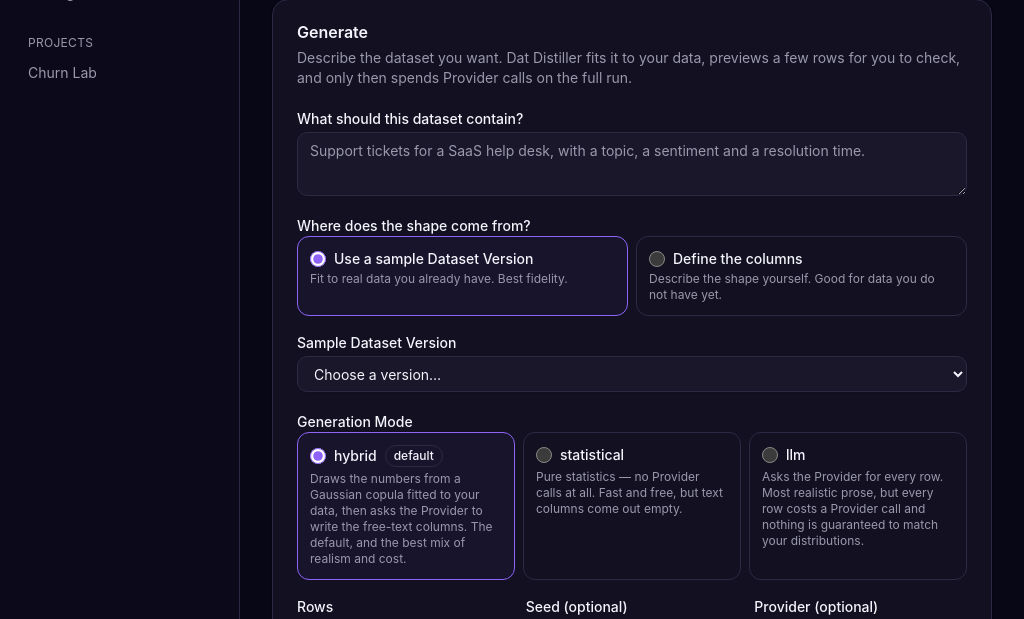
Test: Generate step — the preview gate › surfaces a preview failure without unlocking the run
Type "support tickets" into the text box labelled "What should this dataset contain?" at point(632, 164), box [297,132,967,196]
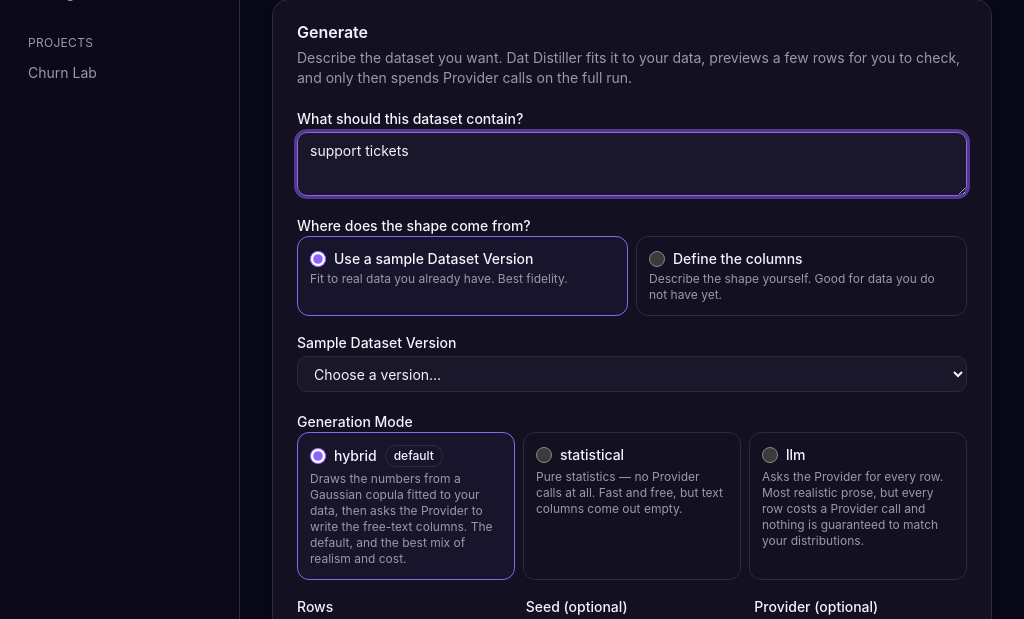
Select "v1 · 40 rows · uploaded" in the dropdown labelled "Sample Dataset Version" at point(632, 374), box [297,356,967,392]
(page scrolled)
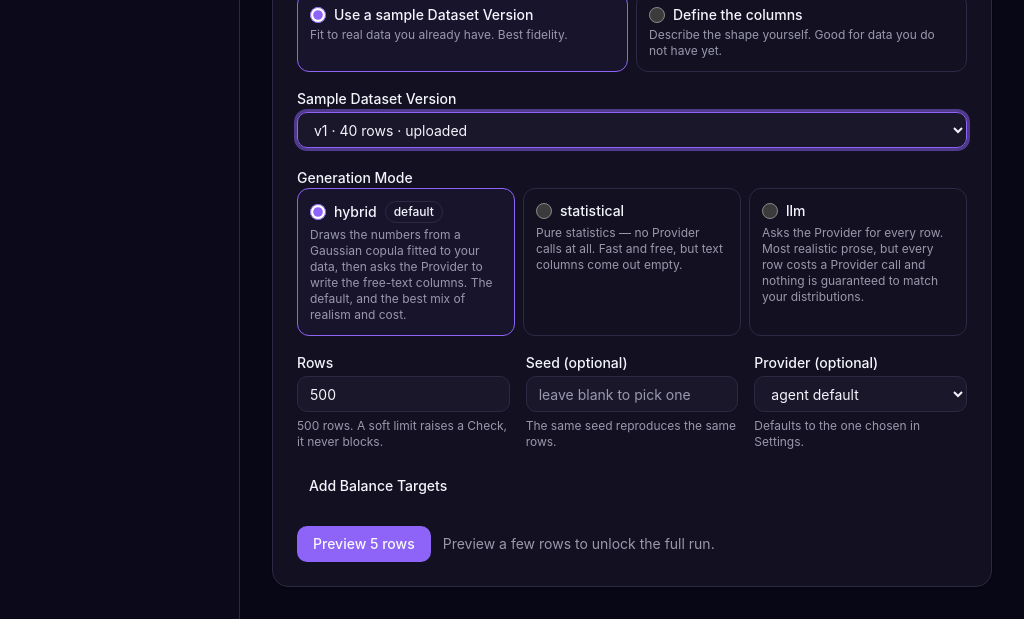
Click the button "Preview 5 rows" at point(364, 544), box [297,526,431,562]
(page scrolled)
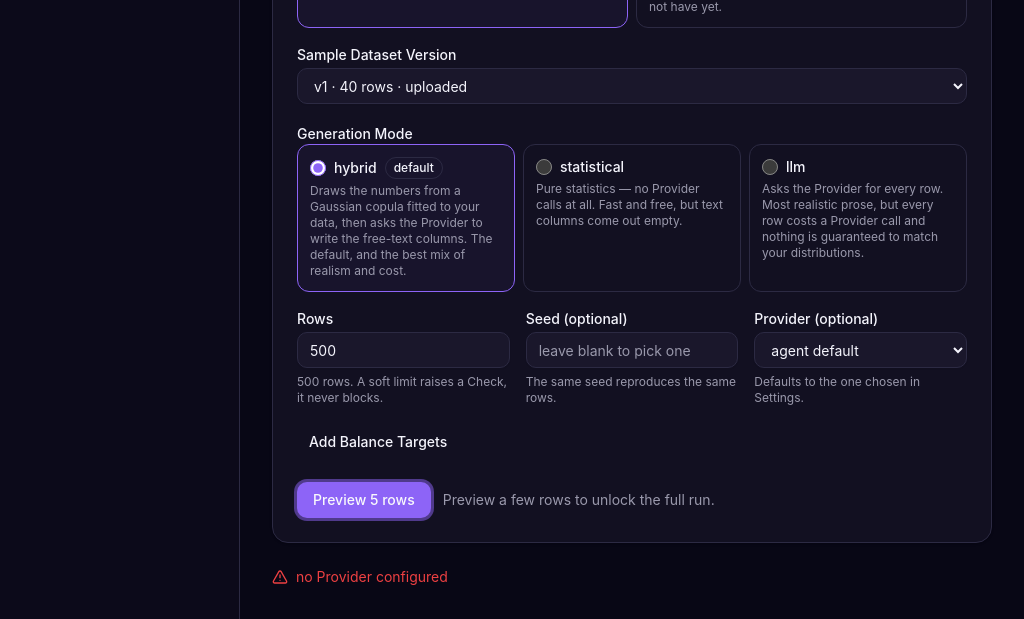
Check: the message reads "no Provider configured", box [296,568,448,585]
